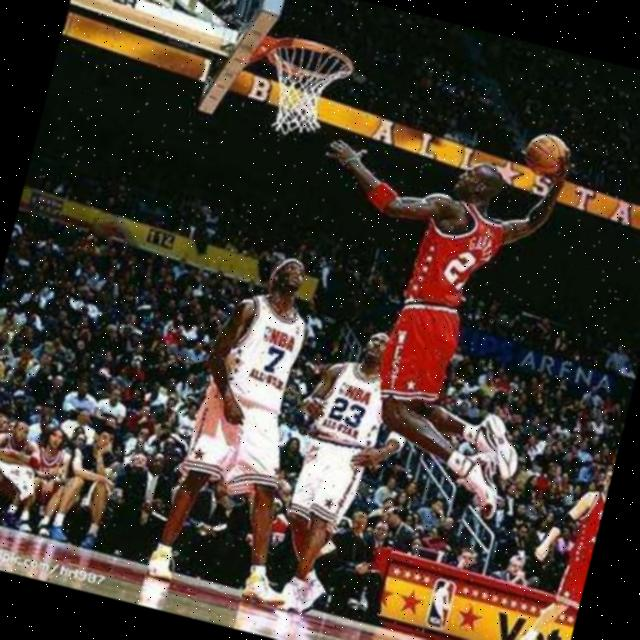ball: (520, 130, 568, 180)
hoop: (258, 17, 366, 95)
